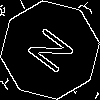N: (25, 25, 84, 82)
